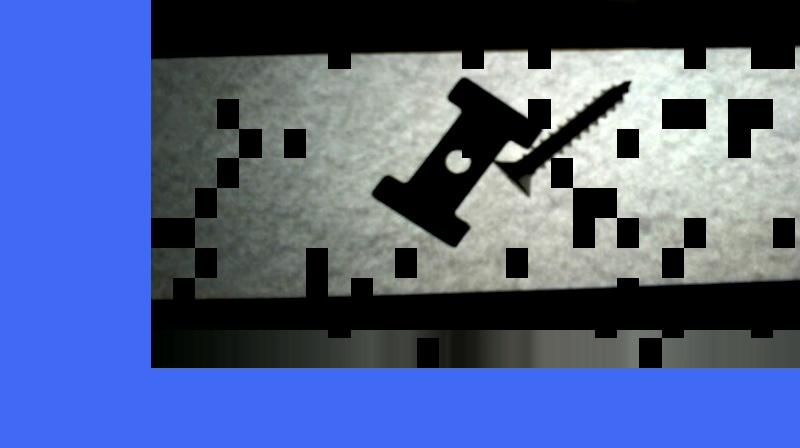O002: (370, 80, 536, 247)
S001: (490, 75, 635, 200)
